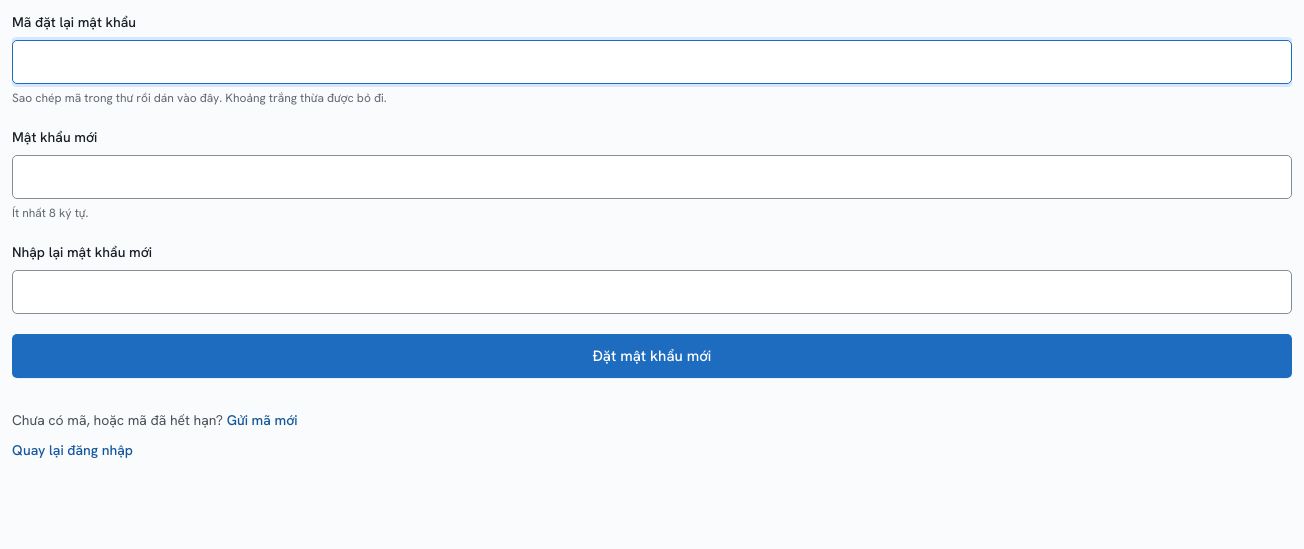
Test: password reset forms use the real client contract › does not submit mismatched passwords and posts a pasted code on success
Type "  pasted-code  " into the field labelled "Mã đặt lại mật khẩu" at (652, 62), box [12, 40, 1292, 84]
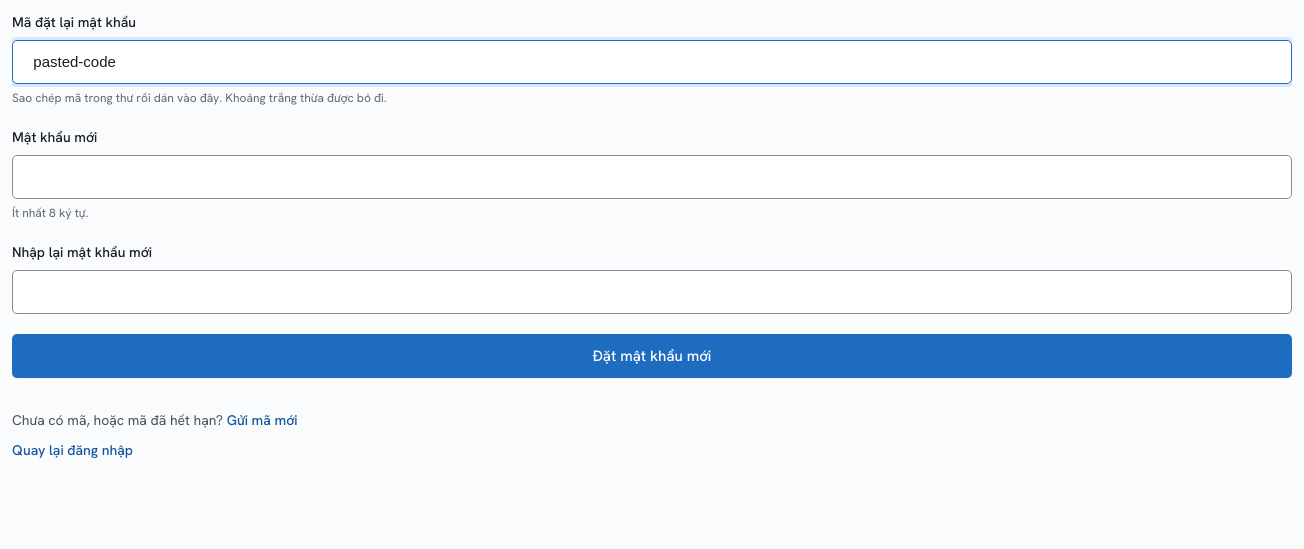
Type "New-password-123" into the password field labelled "Mật khẩu mới" at (652, 177), box [12, 155, 1292, 199]
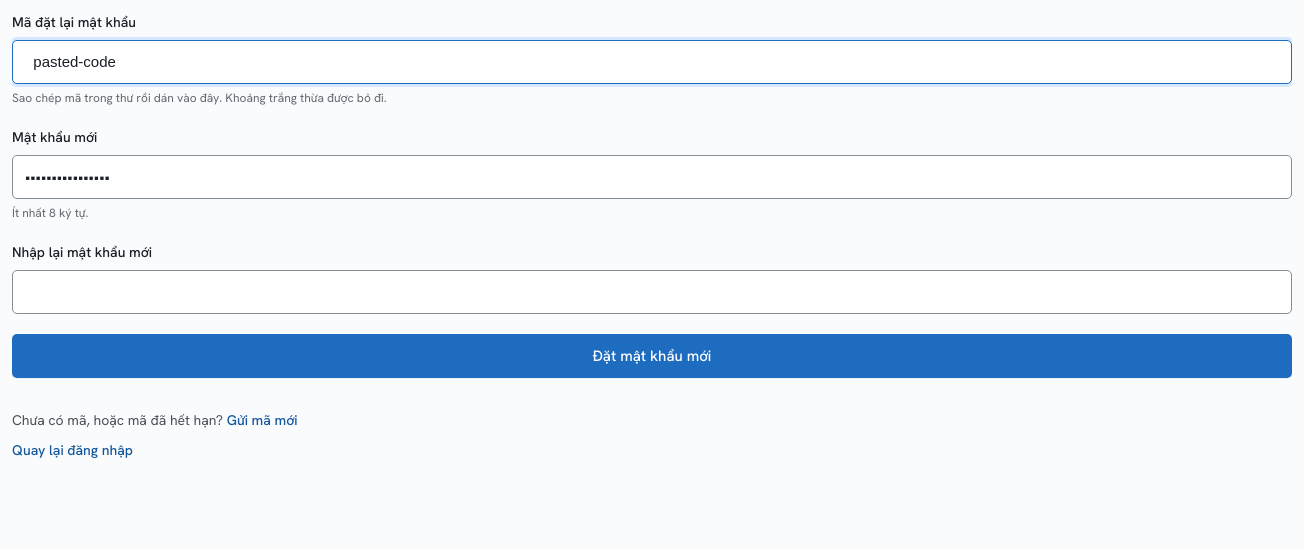
Type "Wrong-password" into the password field labelled "Nhập lại mật khẩu mới" at (652, 292), box [12, 270, 1292, 314]
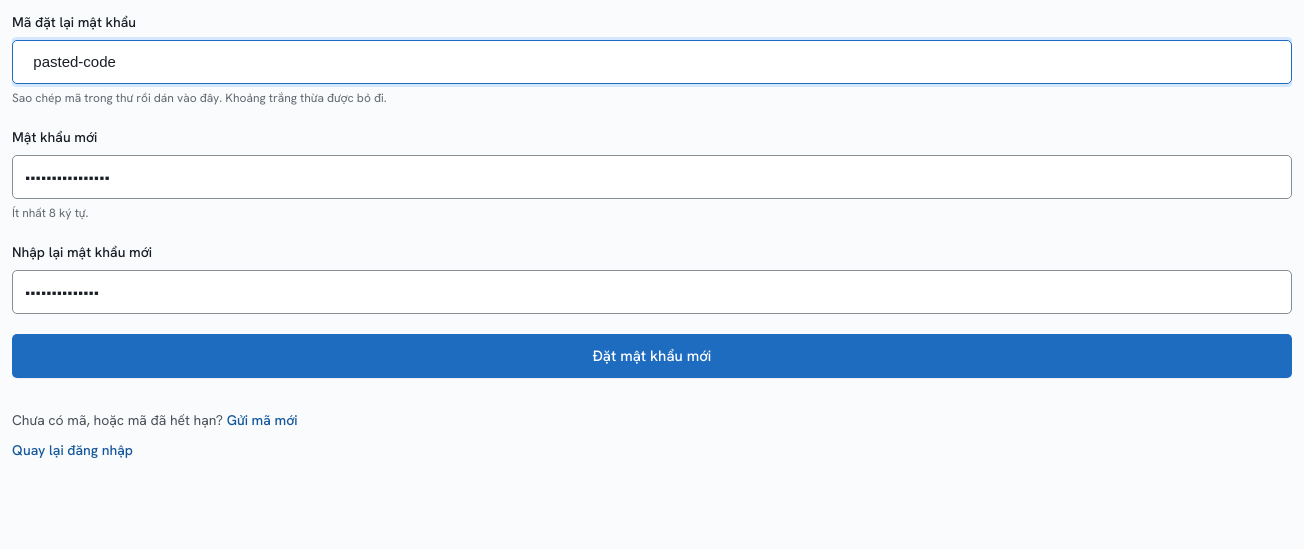
Click the button "Đặt mật khẩu mới" at (652, 356), box [12, 334, 1292, 378]
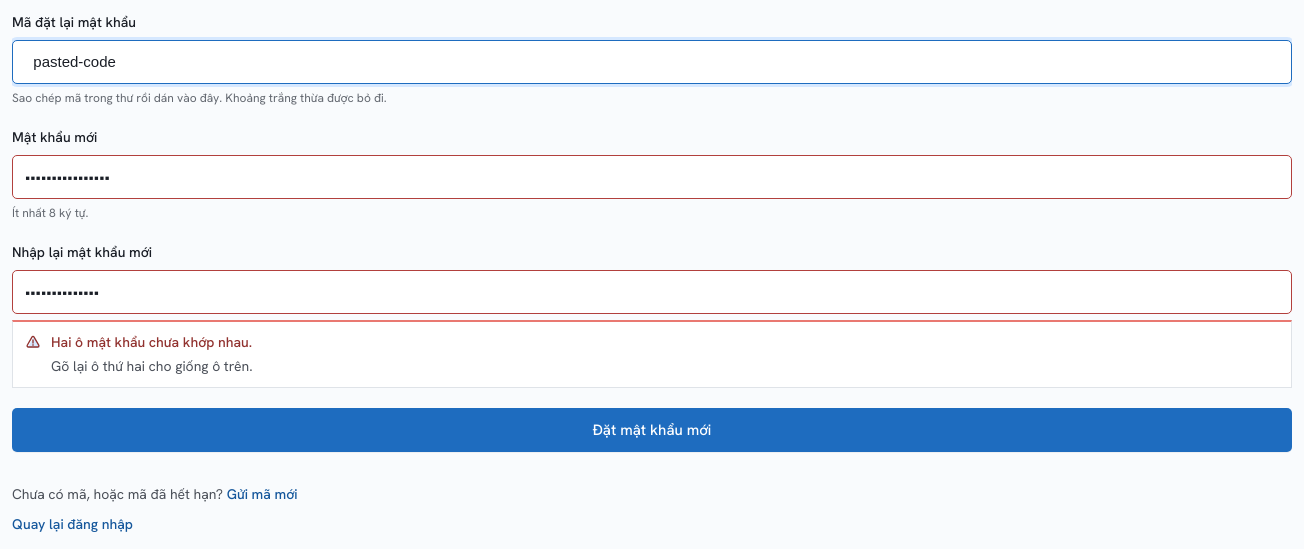
Result: the text "Hai ô mật khẩu chưa khớp nhau." is shown at [51, 332, 253, 354]
Type "New-password-123" into the password field labelled "Nhập lại mật khẩu mới" at (652, 292), box [12, 270, 1292, 314]
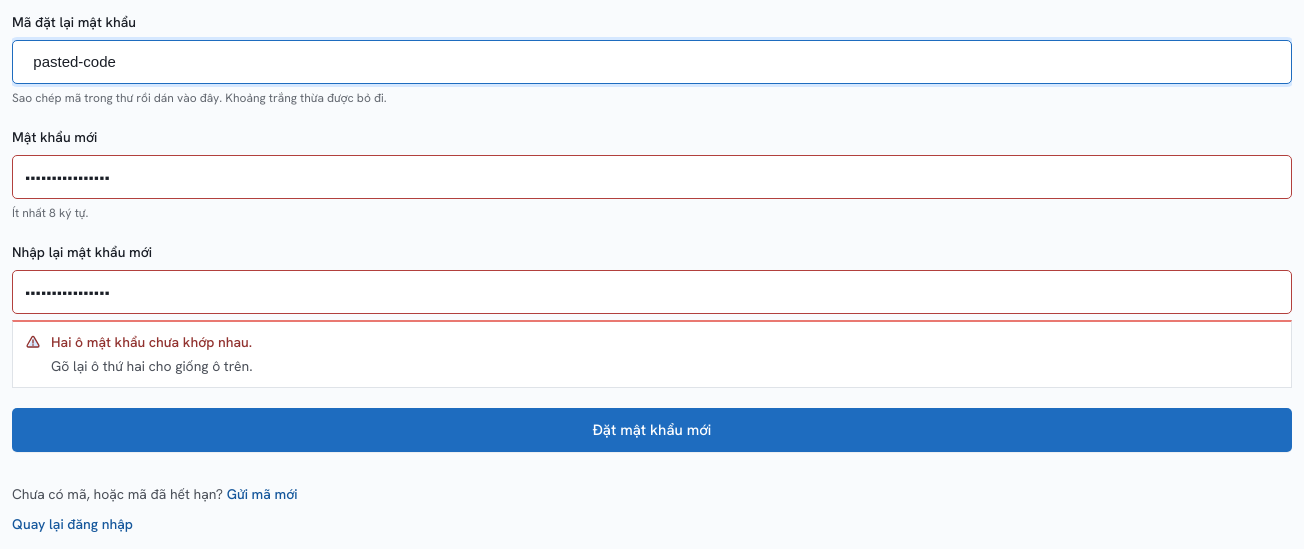
Click the button "Đặt mật khẩu mới" at (652, 430), box [12, 408, 1292, 452]
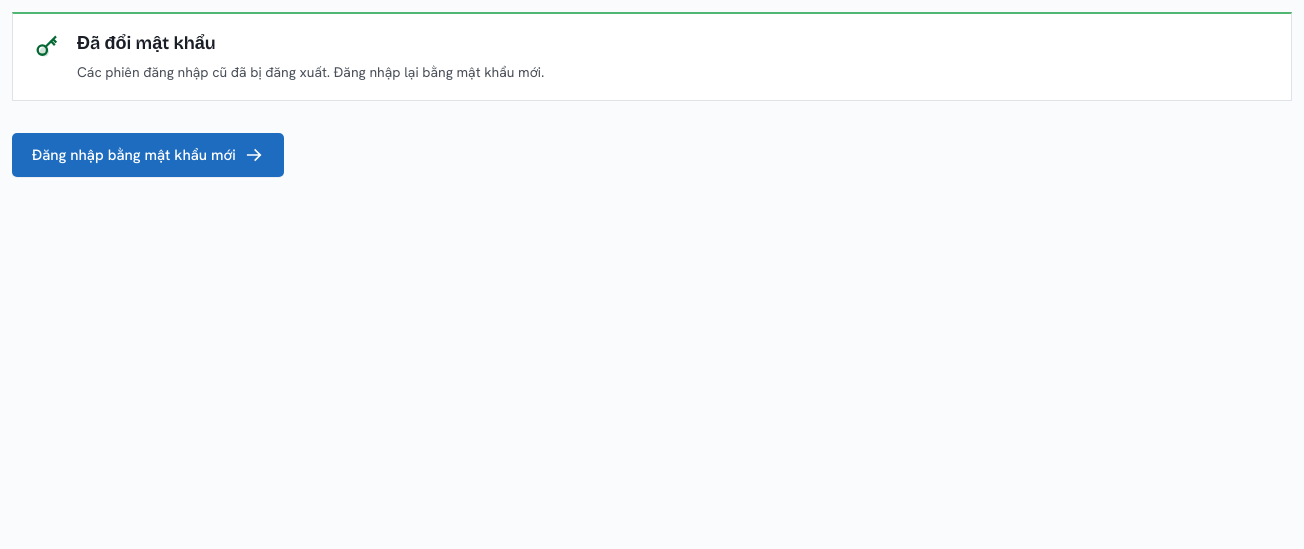
Result: the text "Đã đổi mật khẩu" is shown at [77, 32, 216, 54]
